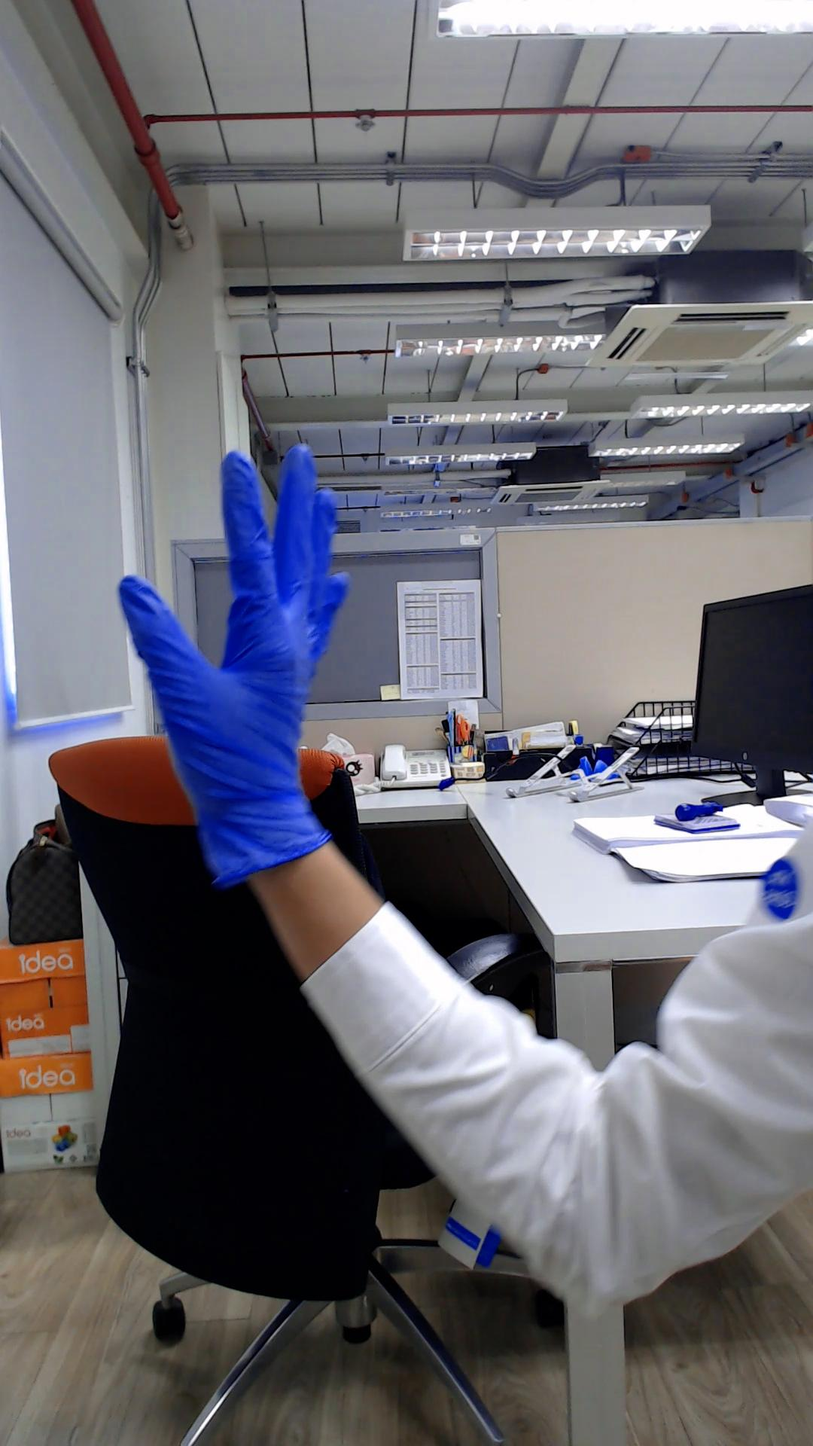gloves: (76, 405, 404, 810)
